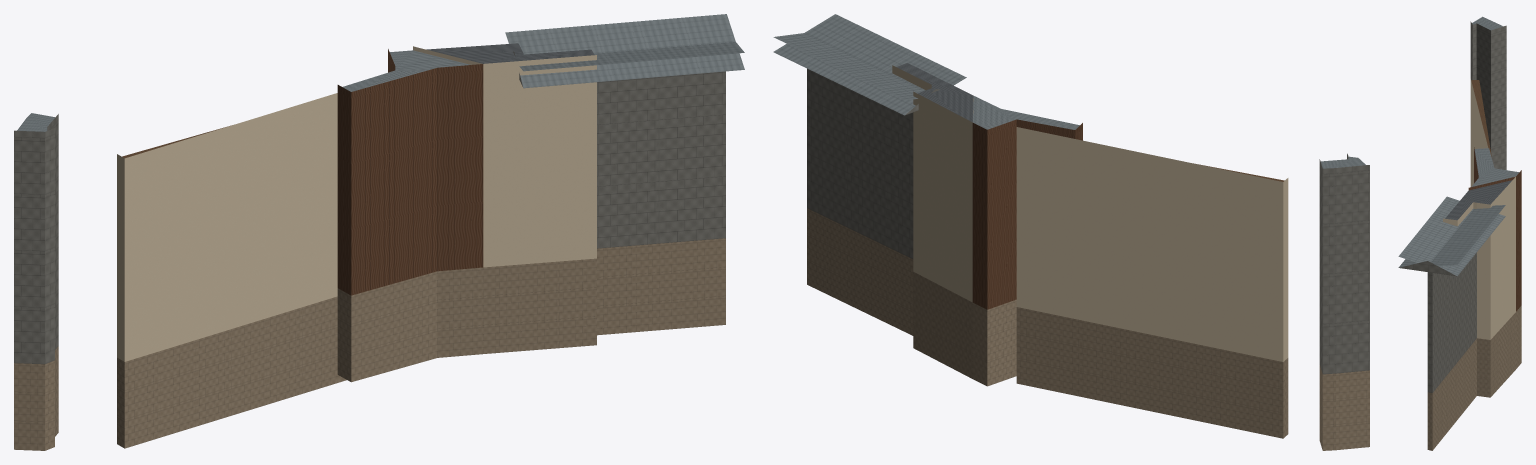
The model's file is bld_c4_-3_561.gltf.
3 views of the same model, side by side, from view 1: azimuth 30°, elevation 25°; view 2: azimuth 150°, elevation 25°; view 3: azimuth 270°, elevation 25° (orthographic). The views are drawn at different scales.
Parts seen in each view (by area): view 1: bld_c4_-3_561; view 2: bld_c4_-3_561; view 3: bld_c4_-3_561.
Boxes of the visible parts, x1,y1,x2,y2 form: bld_c4_-3_561: [14, 14, 744, 450]; bld_c4_-3_561: [773, 14, 1369, 450]; bld_c4_-3_561: [1398, 16, 1521, 450].
Size of the model in its own units: 42.73 by 19.78 by 9.88.
Materials: 10 (10 with a texture image).
